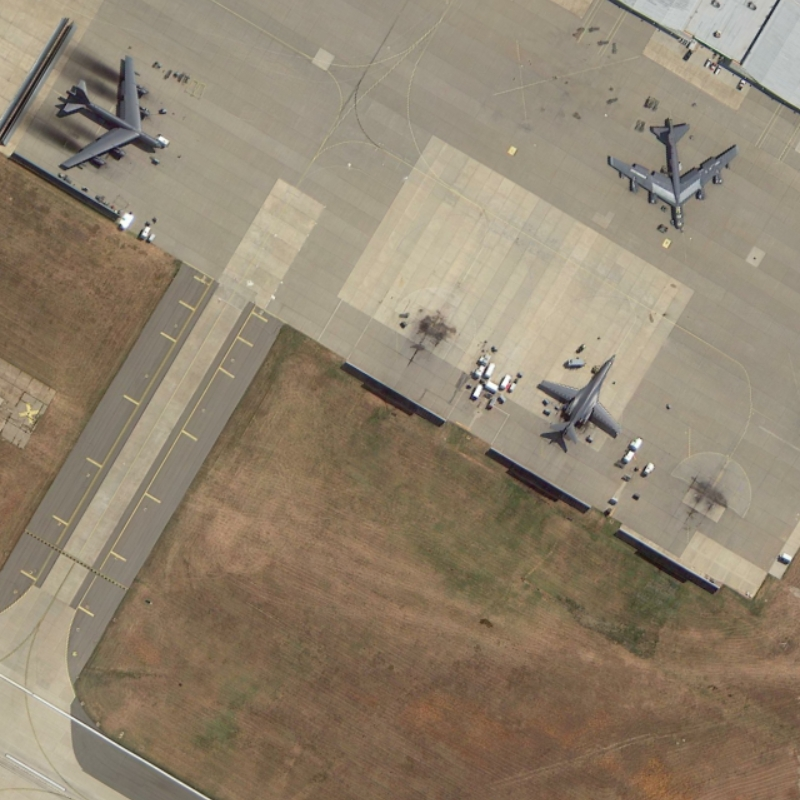A10: (533, 347, 632, 457)
A8: (605, 111, 745, 236), (48, 48, 176, 176)
